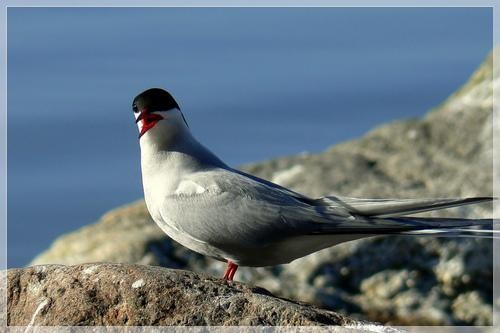bird: (127, 89, 489, 281)
